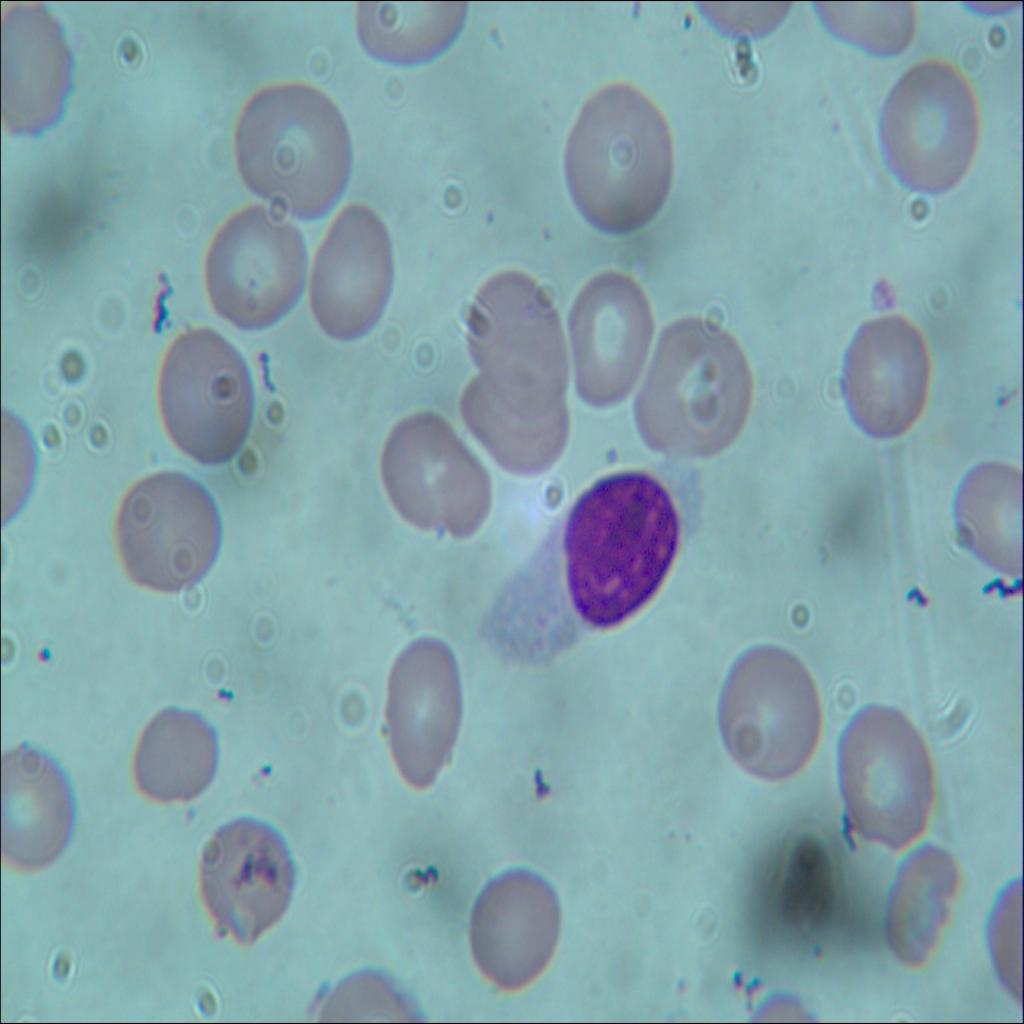Eritrosit: (631, 308, 753, 459), (231, 75, 351, 227), (374, 398, 495, 545), (106, 456, 230, 598), (562, 82, 676, 236), (148, 324, 263, 470), (838, 689, 936, 846), (875, 60, 982, 202), (198, 194, 308, 331), (463, 268, 566, 410), (718, 641, 818, 782), (378, 624, 460, 785), (468, 862, 566, 995), (302, 202, 395, 342), (840, 307, 934, 444), (198, 815, 296, 942), (570, 268, 654, 414), (466, 371, 568, 482), (876, 835, 958, 968), (0, 739, 79, 873), (128, 699, 218, 801), (956, 448, 1023, 581)
Limfosit: (564, 468, 678, 622)
Platelet: (858, 259, 896, 316), (26, 642, 58, 682), (248, 748, 278, 787), (206, 672, 240, 705), (475, 201, 502, 238), (531, 225, 559, 256), (666, 7, 698, 31)
